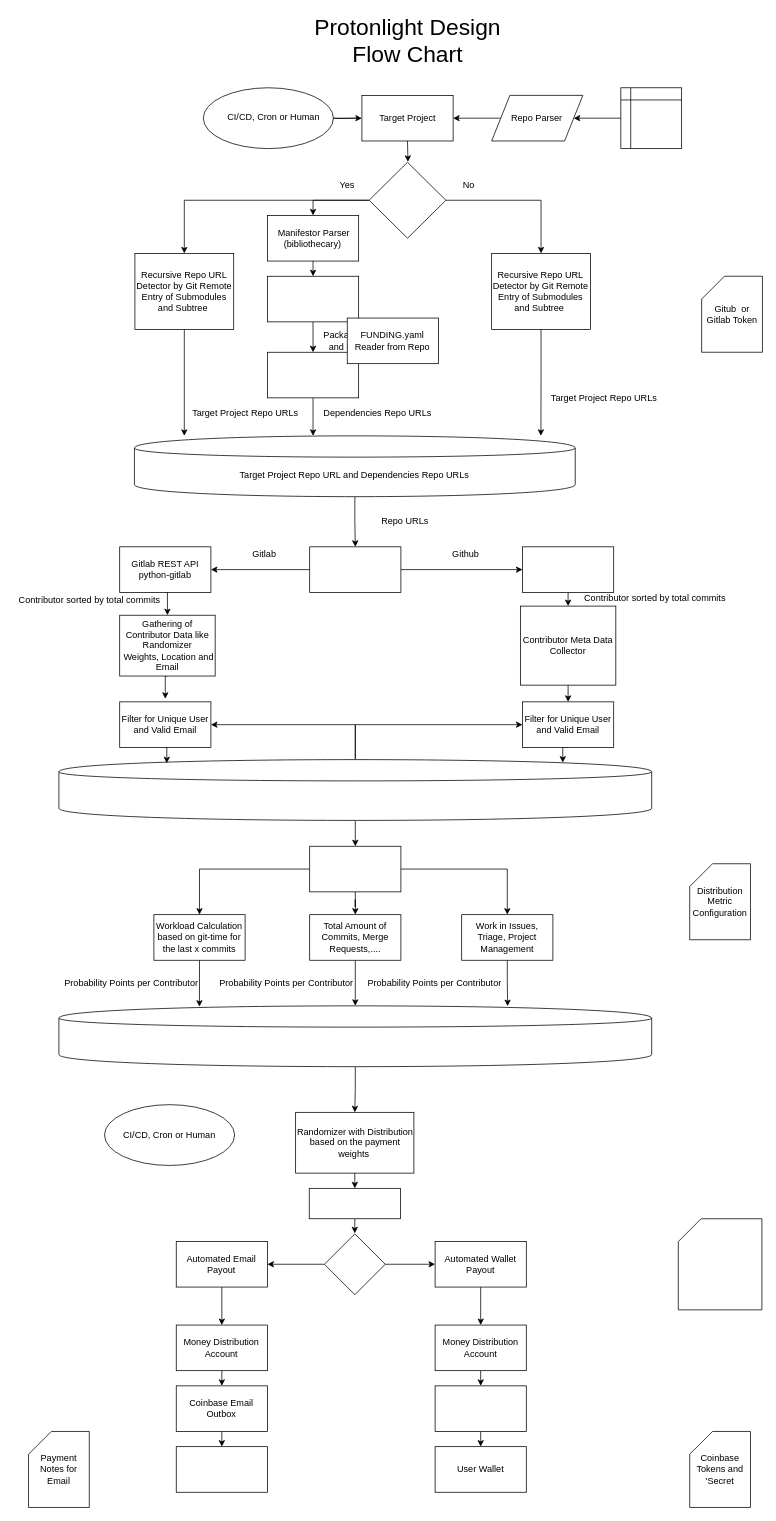
The diagram is 776 pixels wide and 1521 high, and some of its shapes have lost their labels. Each missing label, with the centre of its shape:
"Coinbase Wallet" goes at (480,1408).
"Contributor Data per Target Project Repo URL and Dependencies Repo URL" goes at (355,789).
"Credit Per User Calculation" goes at (354,1203).
"Distribution Metric Configurator" goes at (355,869).
"Github REST API pygithub" goes at (568,569).
"Include Dependencies" goes at (407,200).
"Libraries.io API for Dependency Tree Gathering" goes at (313,375).
"Local Git Folder" goes at (651,118).
"P robability D istribution per Contributor" goes at (355,1036).
"Payment Configuration (FUNDING.yaml)" goes at (720,1264).
"Payment Methode" goes at (354,1264).
"Randomizer" goes at (313,299).
"Repository Platform Detection" goes at (355,569).
"User Email Inbox" goes at (221,1469).
